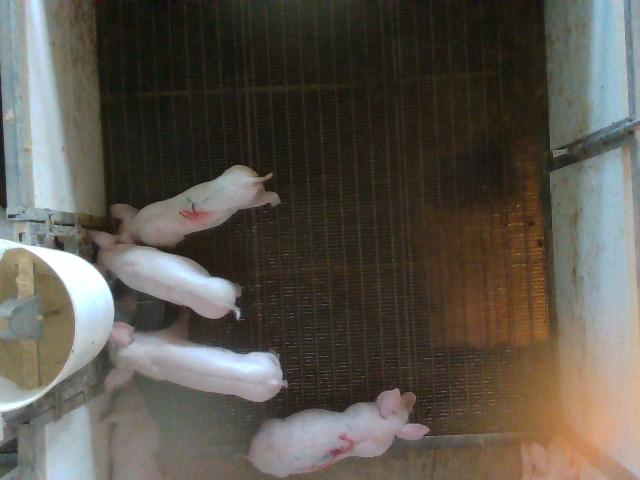pig-3: (248, 389, 429, 477)
pig-4: (110, 165, 279, 246)
